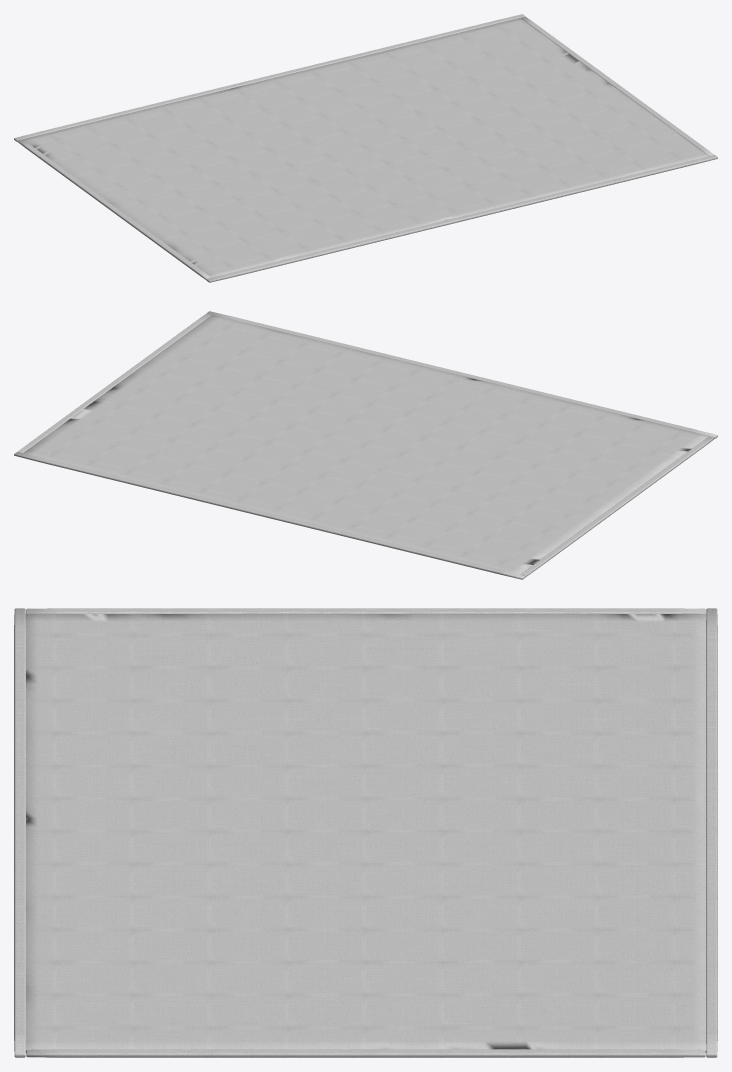
File: rug-200x300.gltf
The picture shows the model from 3 angles, top to bottom: view 1: azimuth 30°, elevation 25°; view 2: azimuth 150°, elevation 25°; view 3: azimuth 270°, elevation 25°; orthographic projection. The views are drawn at different scales.
Parts seen in each view (by area): view 1: rug; view 2: rug; view 3: rug.
Part boxes in pixels (x1,y1,x2,y2): rug: (14,14,717,282); rug: (14,311,717,579); rug: (14,608,717,1057).
Bounding box in the file's own units: 3 × 0.0149 × 2.
Materials: 2 (2 with a texture image).
